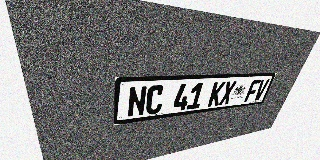1: (186, 83, 206, 110)
4: (172, 83, 192, 112)
C: (145, 85, 165, 115)
F: (244, 80, 261, 102)
K: (207, 81, 226, 107)
N: (127, 86, 147, 118)
V: (253, 79, 270, 101)
X: (218, 81, 237, 105)
